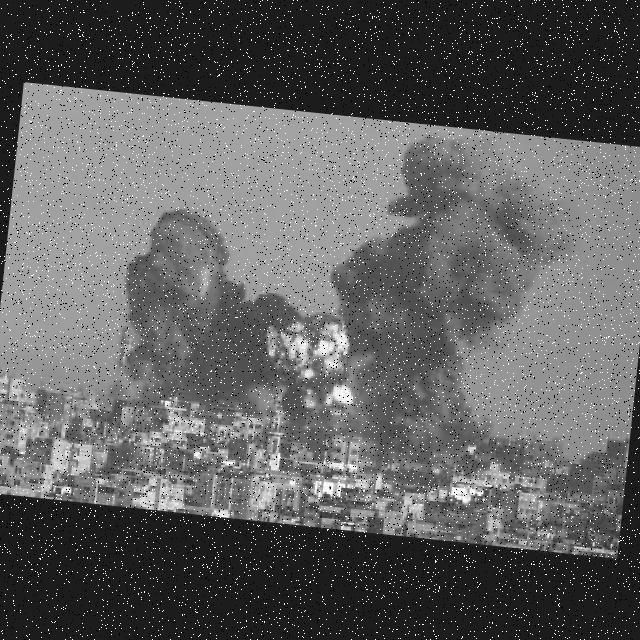Fire: (252, 302, 363, 420)
Smoke: (331, 128, 587, 448), (127, 188, 288, 413)
